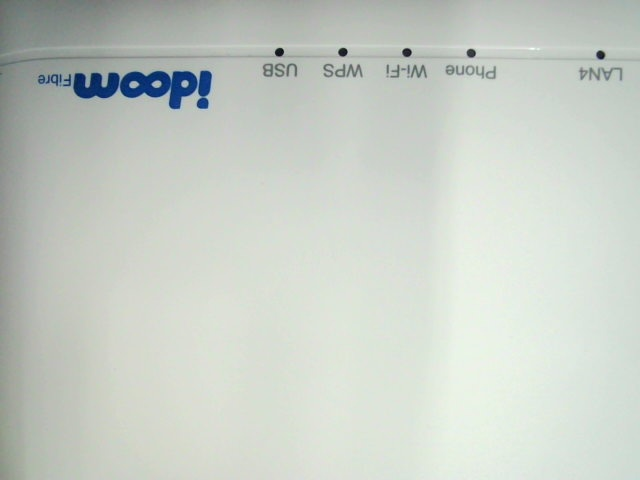BB_idoom: (31, 65, 219, 113)
